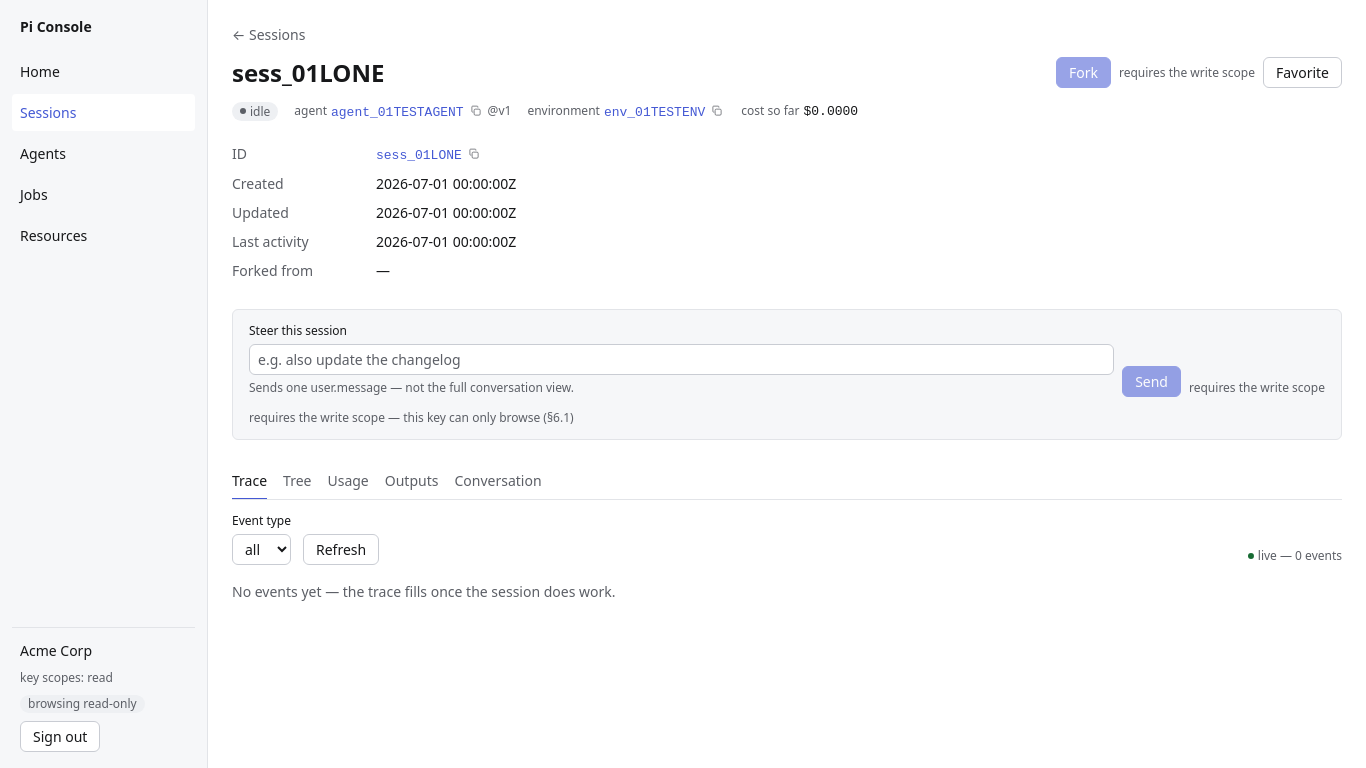
fork lineage (session-level, §7.6 deep links) › a session with no fork relations says so plainly
The image size is (1366, 768).
Check: the element named "Session detail" is shown, box [232,464,1342,500]
Click the tab "Tree". click: (297,482)
box: [283,464,312,500]
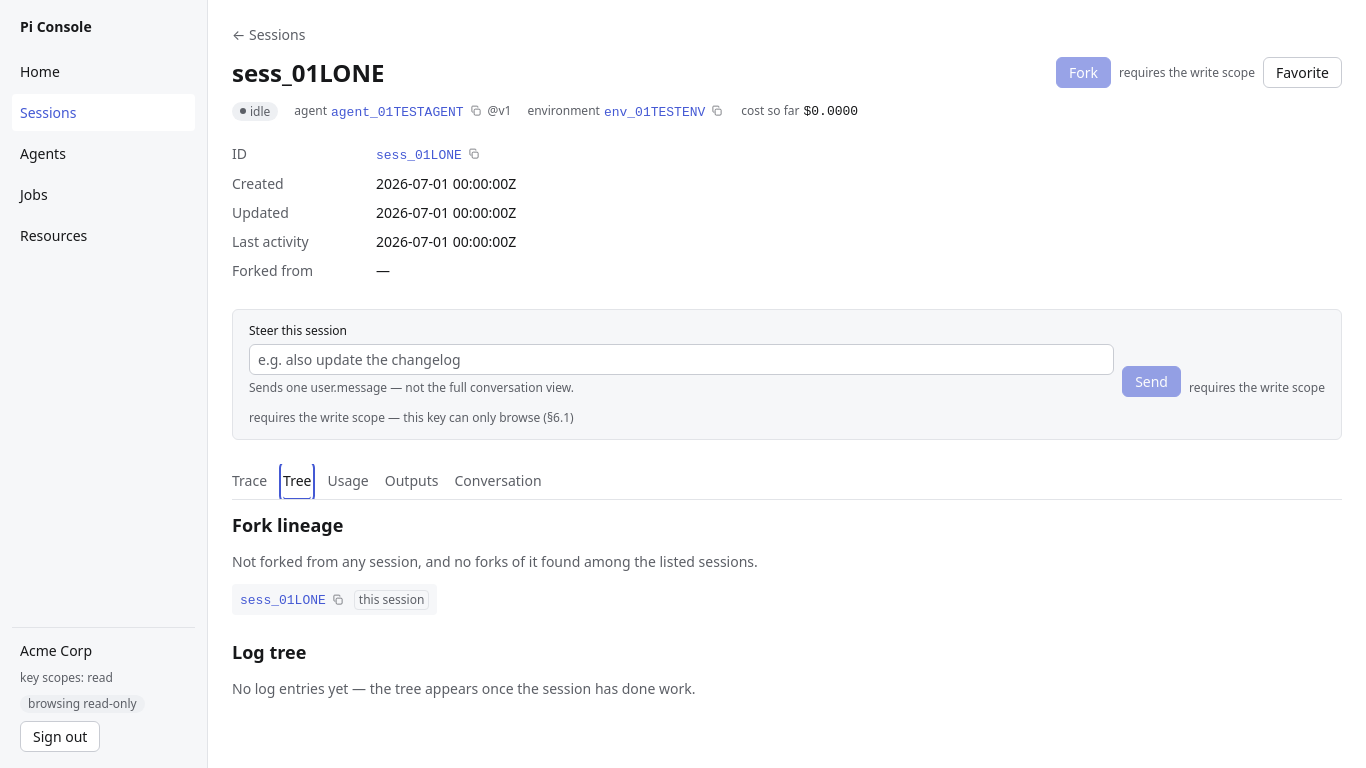
Check: the text "Not forked from any session" is shown, box [232,552,537,571]
